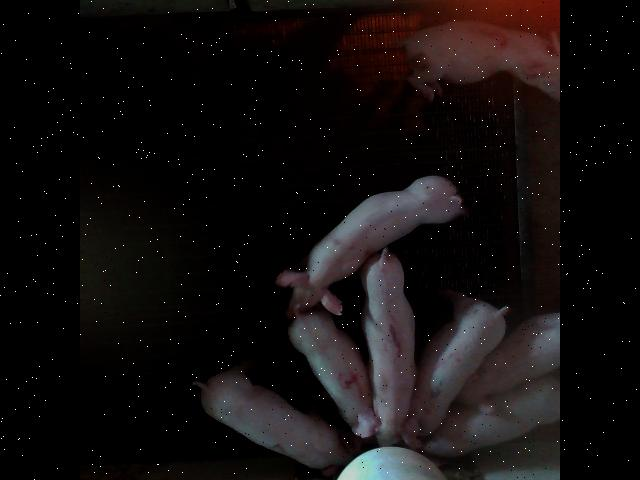pig-1: (352, 248, 419, 448)
pig-3: (404, 20, 558, 99)
pig-4: (289, 308, 373, 433)
